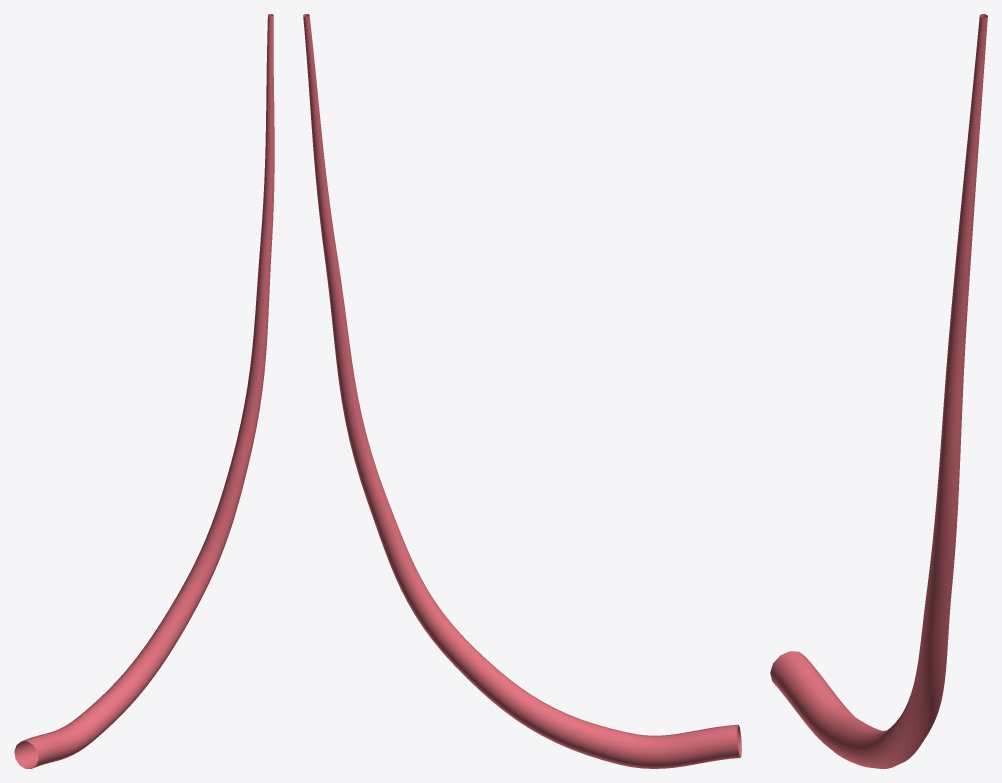
3 renders of one model, left to right at view 1: azimuth 30°, elevation 25°; view 2: azimuth 150°, elevation 25°; view 3: azimuth 270°, elevation 25°, orthographic. The views are drawn at different scales.
Parts seen in each view (by area): view 1: ZA_ca7cbf3b5050b984; view 2: ZA_ca7cbf3b5050b984; view 3: ZA_ca7cbf3b5050b984.
Part boxes in pixels (<box>): ZA_ca7cbf3b5050b984: <box>14,14,274,768</box>; ZA_ca7cbf3b5050b984: <box>303,14,741,768</box>; ZA_ca7cbf3b5050b984: <box>770,14,987,768</box>.
Size of the model in its own units: 0.0126 by 0.024 by 0.00522.
